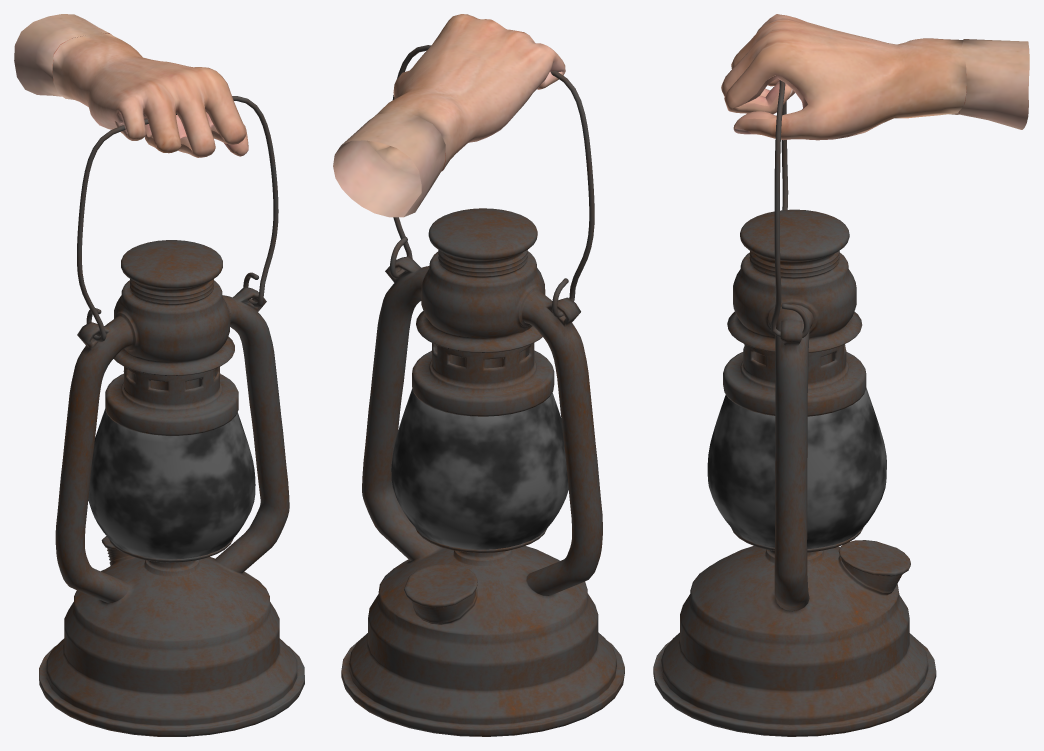
File: oldLanternHand.fbx
3 renders of one model, left to right at view 1: azimuth 30°, elevation 25°; view 2: azimuth 150°, elevation 25°; view 3: azimuth 270°, elevation 25°, orthographic. The views are drawn at different scales.
Parts seen in each view (by area): view 1: Body, Glass, Hand, Handle; view 2: Body, Hand, Glass, Handle; view 3: Body, Hand, Glass, Handle.
Boxes of the visible parts, bbox=[...] form: Body: bbox=[39, 240, 304, 736]; Glass: bbox=[88, 409, 255, 559]; Hand: bbox=[14, 14, 248, 157]; Handle: bbox=[77, 96, 278, 341]; Body: bbox=[341, 208, 624, 736]; Hand: bbox=[333, 14, 565, 217]; Glass: bbox=[391, 388, 568, 549]; Handle: bbox=[390, 45, 594, 317]; Body: bbox=[653, 209, 936, 736]; Hand: bbox=[721, 14, 1029, 140]; Glass: bbox=[707, 388, 886, 548]; Handle: bbox=[770, 80, 809, 337].
Size of the model in its own units: 18.11 by 45.86 by 24.09.
